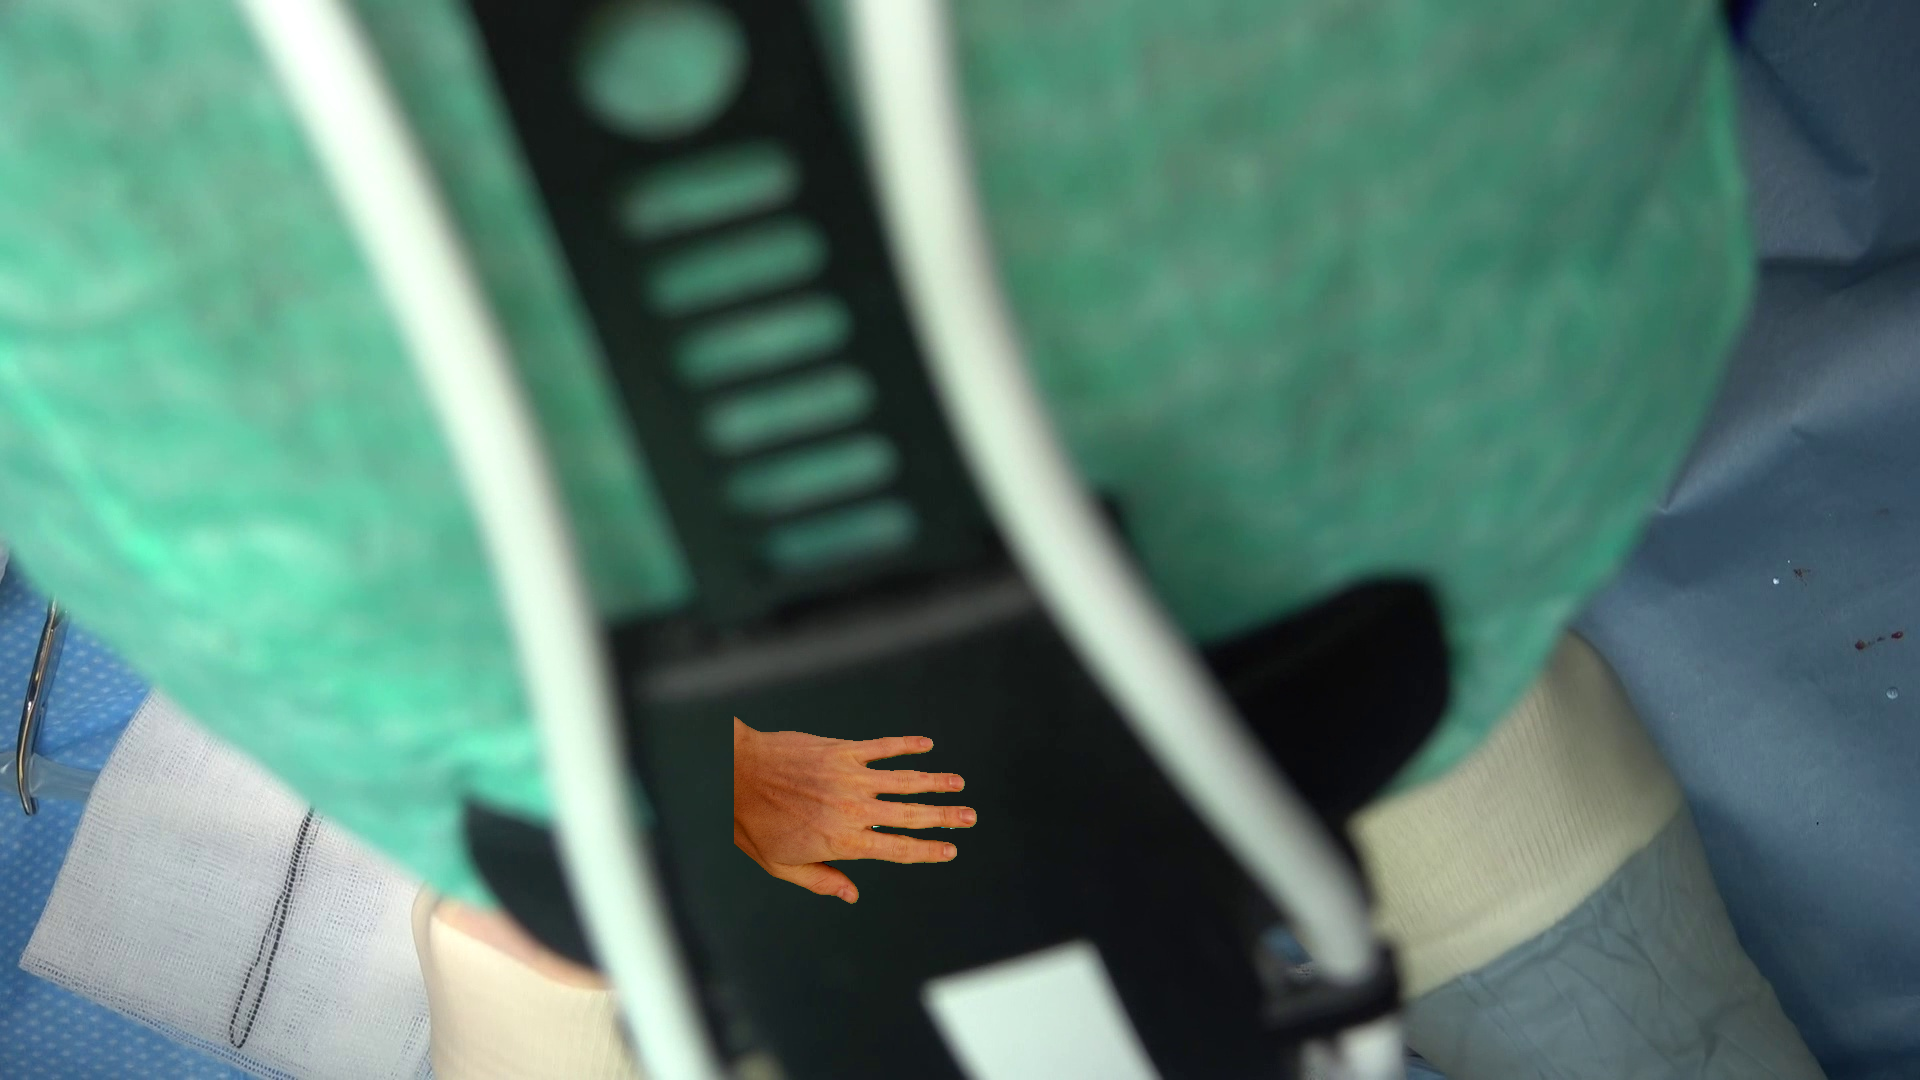diathermy: (873, 825, 953, 828)
